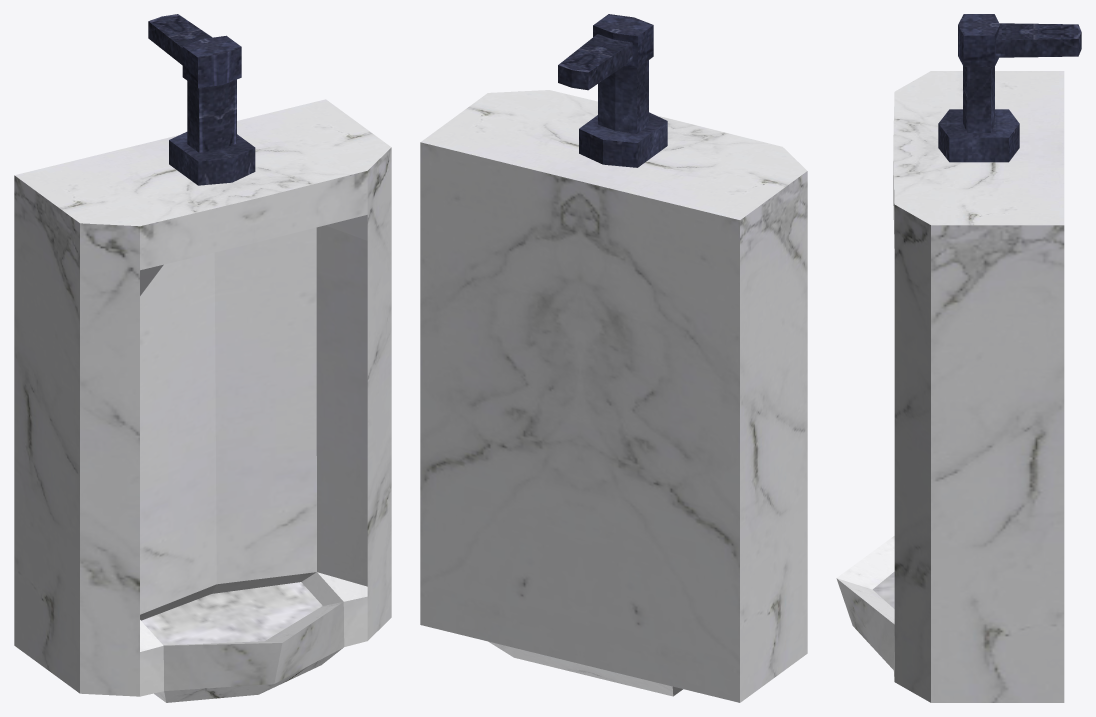
The model's file is niceurine.gltf.
3 renders of one model, left to right at view 1: azimuth 30°, elevation 25°; view 2: azimuth 150°, elevation 25°; view 3: azimuth 270°, elevation 25°, orthographic. The views are drawn at different scales.
Parts seen in each view (by area): view 1: Cube; view 2: Cube; view 3: Cube.
Part boxes in pixels (left/top/right/bottom): Cube: left=14, top=14, right=391, bottom=702; Cube: left=420, top=14, right=807, bottom=702; Cube: left=836, top=14, right=1081, bottom=702.
Bounding box in the file's own units: 1.39 × 2.61 × 0.9303.
1 material, 1 textured.
